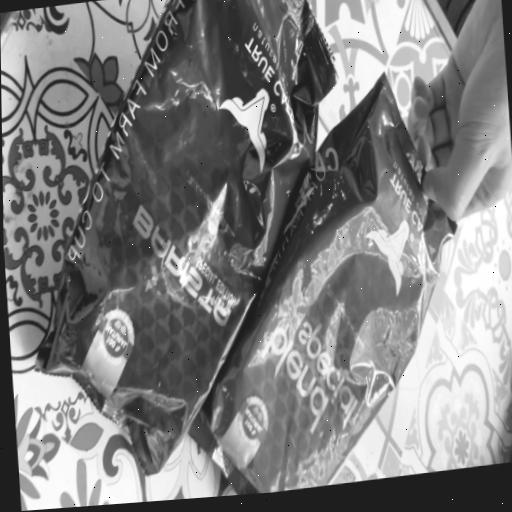cafe_hat: (36, 0, 336, 475)
cafe_xay: (189, 79, 455, 495)
